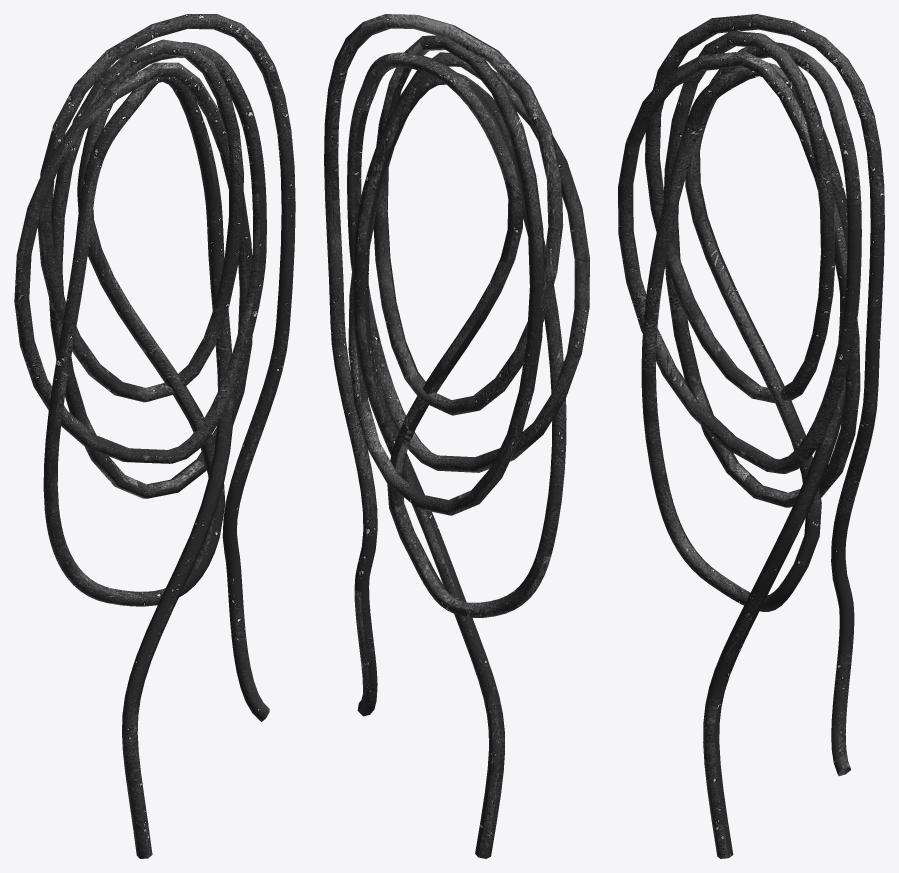
Rendered from Cable6.fbx.
3 renders of one model, left to right at view 1: azimuth 30°, elevation 25°; view 2: azimuth 150°, elevation 25°; view 3: azimuth 330°, elevation 25°, orthographic. The views are drawn at different scales.
Visible parts, largest first — view 1: Wire.004; view 2: Wire.004; view 3: Wire.004.
Part boxes in pixels (box(x1,y1,x2,y2)): Wire.004: box(14, 14, 295, 858); Wire.004: box(324, 14, 589, 858); Wire.004: box(618, 14, 884, 858).
Bounding box in the file's own units: 996 × 2897 × 219.
Materials: 1 (1 with a texture image).
